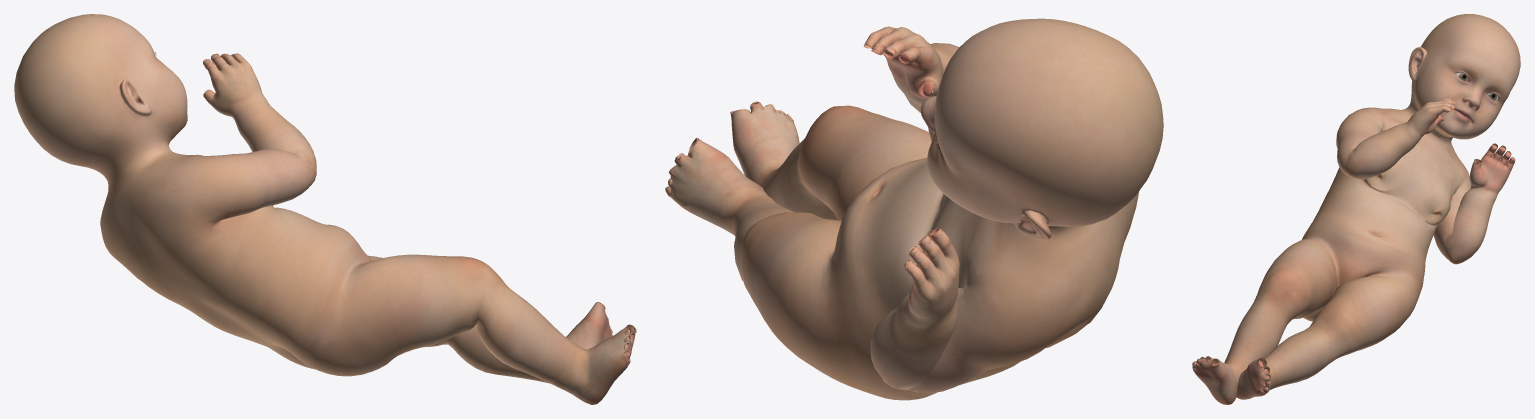
The model's file is bebe.fbx.
3 views of the same model, side by side, from view 1: azimuth 30°, elevation 25°; view 2: azimuth 150°, elevation 25°; view 3: azimuth 270°, elevation 25° (orthographic). The views are drawn at different scales.
Parts seen in each view (by area): view 1: Bebe; view 2: Bebe; view 3: Bebe.
Boxes of the visible parts, left/top/right/bottom form: Bebe: left=14, top=14, right=636, bottom=404; Bebe: left=665, top=18, right=1163, bottom=400; Bebe: left=1192, top=14, right=1520, bottom=404.
Bounding box in the file's own units: 24.24 × 17.56 × 20.16.
